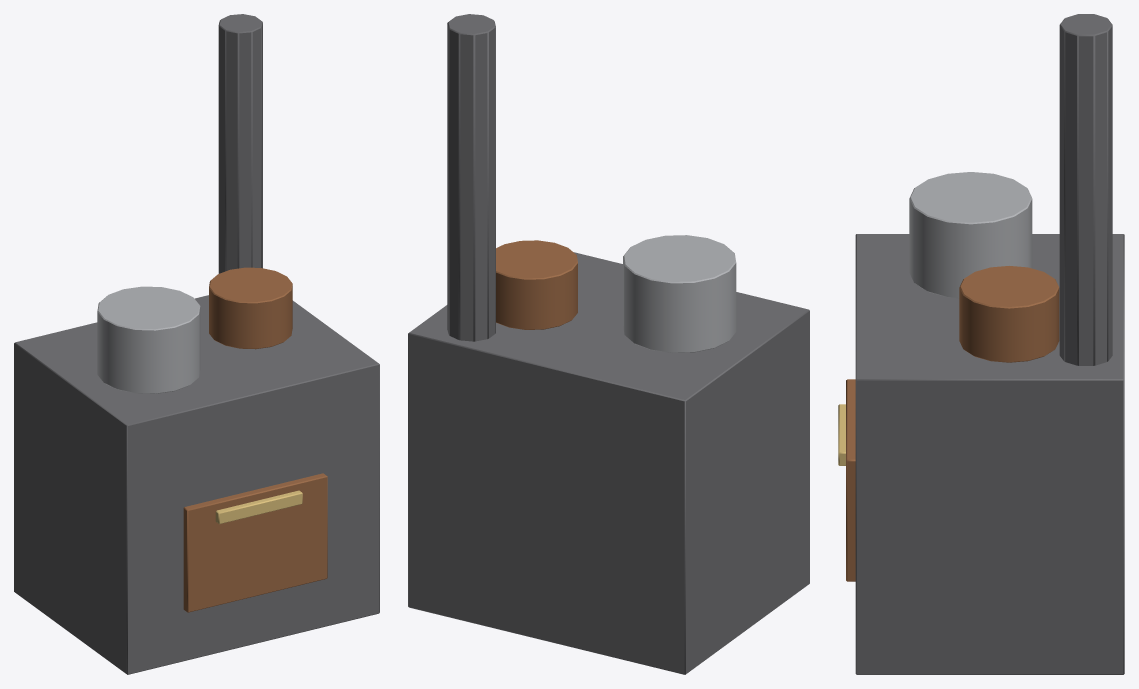
The model's file is feM_Kitchen.fbx.
3 renders of one model, left to right at view 1: azimuth 30°, elevation 25°; view 2: azimuth 150°, elevation 25°; view 3: azimuth 270°, elevation 25°, orthographic. The views are drawn at different scales.
Parts seen in each view (by area): view 1: feM_Kitchen_Base; view 2: feM_Kitchen_Base; view 3: feM_Kitchen_Base.
Part boxes in pixels (x1,y1,x2,y2): feM_Kitchen_Base: (14,14,379,674); feM_Kitchen_Base: (408,14,809,674); feM_Kitchen_Base: (838,14,1124,674).
Bounding box in the file's own units: 0.9 × 1.8 × 0.745.
